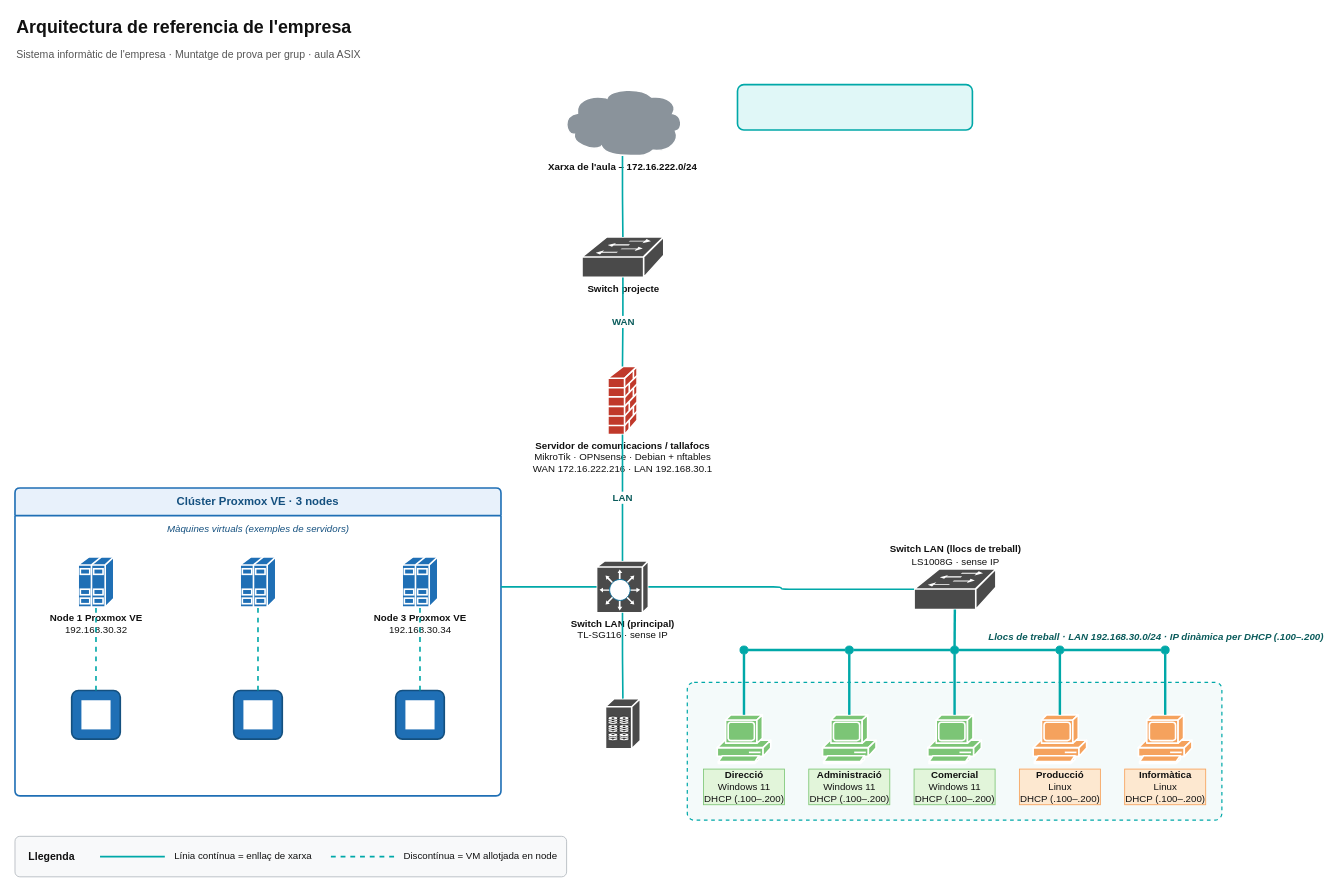
The diagram is 1337 pixels wide and 891 high, and some of its shapes have lost their labels. The shapes that lost their labels are listed below. From the top down, each one's box as (x1, y1, x2, y2) in pixels, then its label:
(736, 83, 973, 130): Grup 3 – 192.168.30.0/24 Màscara 255.255.255.0 · Gateway 192.168.30.1
(239, 556, 276, 608): Node 2 Proxmox VE 192.168.30.33
(70, 689, 121, 740): VM · Windows Server 2025 192.168.30.21
(232, 689, 283, 740): VM · Debian · serveis 192.168.30.22
(394, 689, 445, 740): VM · Debian · dades 192.168.30.23
(604, 697, 641, 749): NAS / SAN Còpies · imatges · dades 192.168.30.20
